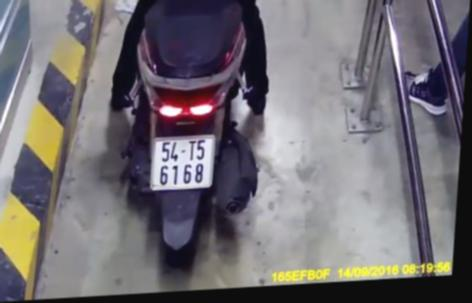License_Plate: (145, 131, 219, 196)
